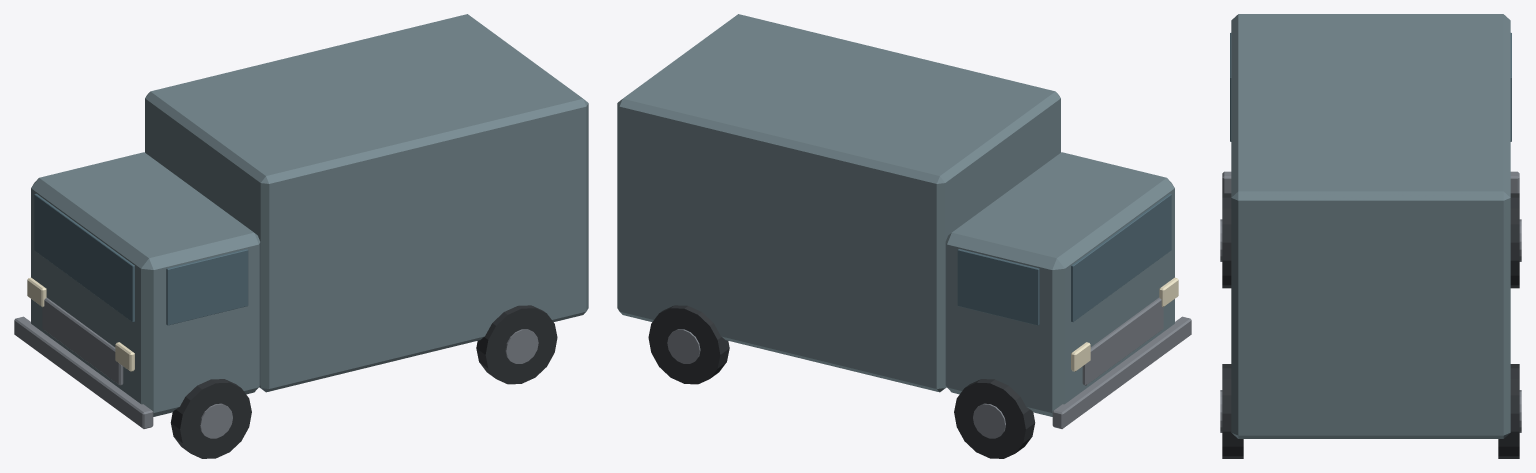
File: truck.glb
3 renders of one model, left to right at view 1: azimuth 30°, elevation 25°; view 2: azimuth 150°, elevation 25°; view 3: azimuth 270°, elevation 25°, orthographic. The views are drawn at different scales.
Visible parts, largest first — view 1: truck; view 2: truck; view 3: truck.
Part boxes in pixels (box(x1,y1,x2,y2)): truck: box(14, 14, 588, 458); truck: box(617, 14, 1191, 458); truck: box(1220, 14, 1521, 458).
Size of the model in its own units: 5.03 by 2.8 by 2.54.
